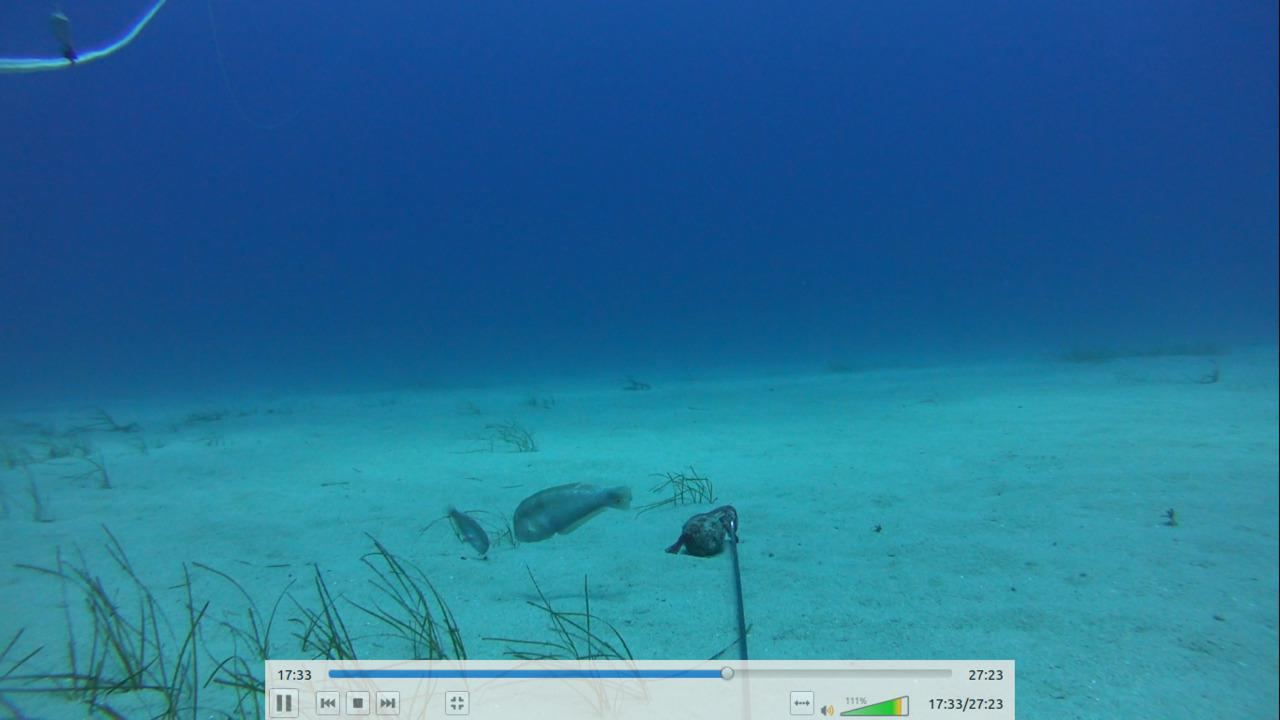raor: (507, 476, 636, 546), (436, 495, 500, 560)
